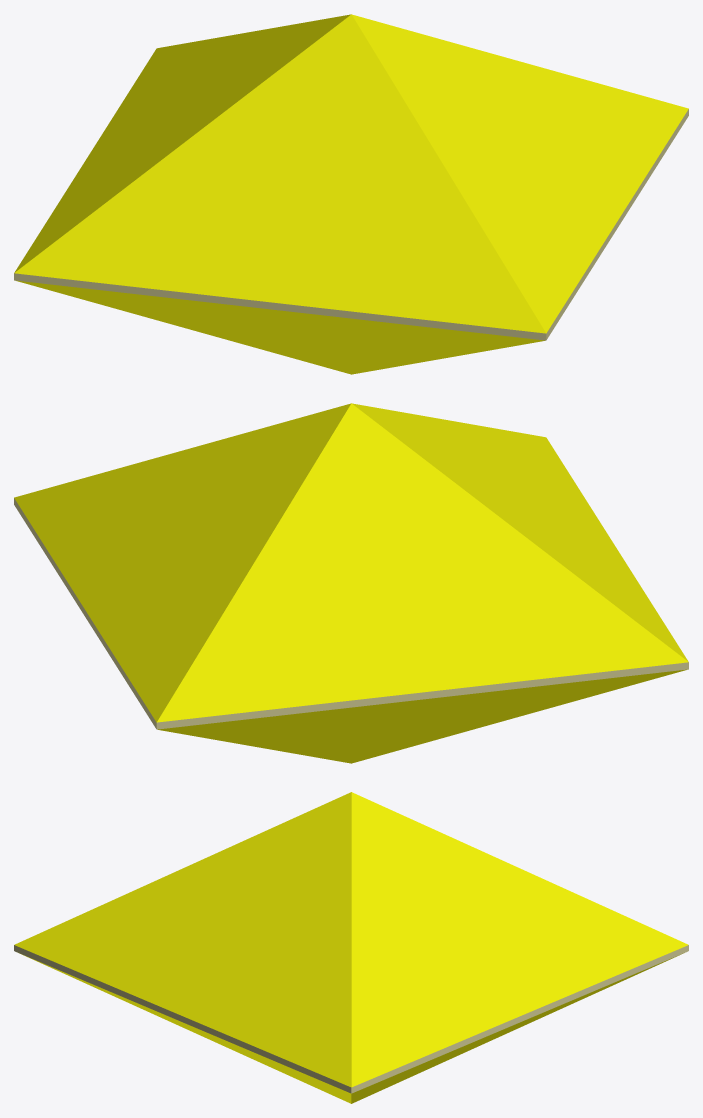
The model's file is EXP_Yellow.fbx.
The picture shows the model from 3 angles, top to bottom: view 1: azimuth 30°, elevation 25°; view 2: azimuth 150°, elevation 25°; view 3: azimuth 270°, elevation 25°; orthographic projection. The views are drawn at different scales.
Visible parts, largest first — view 1: pCone3; view 2: pCone3; view 3: pCone3.
Boxes of the visible parts, x1=… form: pCone3: x1=14, y1=14, x2=688, y2=374; pCone3: x1=14, y1=403, x2=688, y2=763; pCone3: x1=14, y1=792, x2=688, y2=1103.
Bounding box in the file's own units: 2 × 1.02 × 2.
